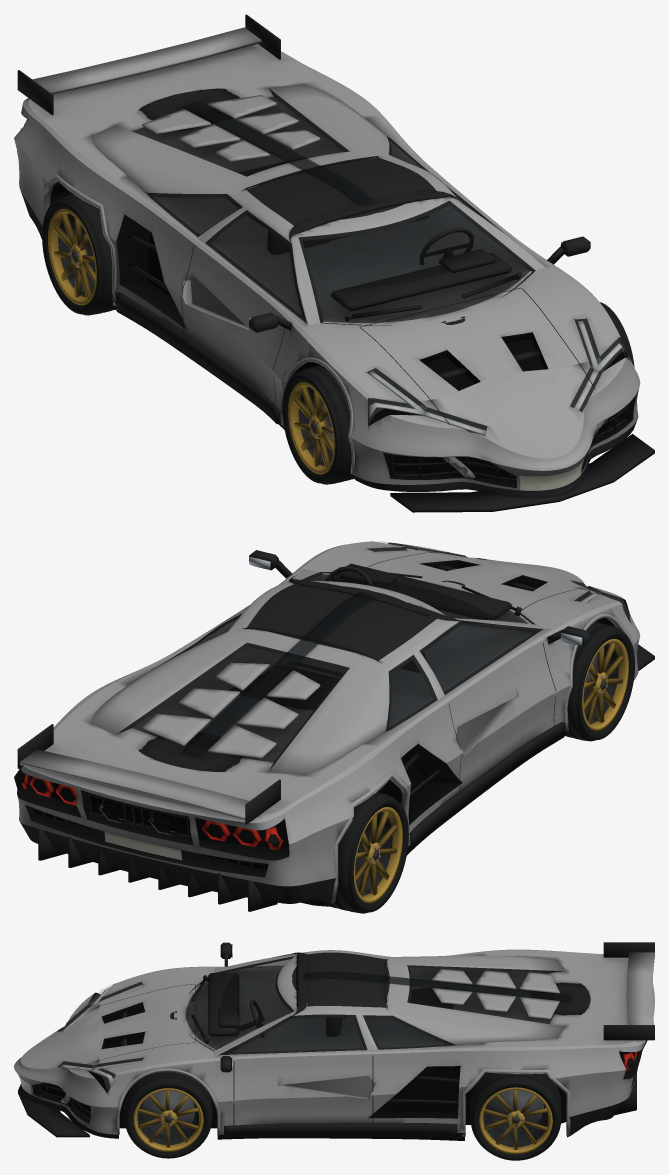
File: lamborghini-sian.glb
3 views of the same model, one above another, from view 1: azimuth 30°, elevation 25°; view 2: azimuth 150°, elevation 25°; view 3: azimuth 270°, elevation 25° (orthographic). The views are drawn at different scales.
Parts seen in each view (by area): view 1: Coachwork, Body, Wheel_RR, Wheel_FR, Headlights, Plate; view 2: Coachwork, Body, Wheel_RR, Wheel_FR, Taillights, Plate; view 3: Coachwork, Body, Wheel_RL, Wheel_FL, Headlights.
Boxes of the visible parts, box(x1,y1,x2,y2) form: Coachwork: box(14, 44, 640, 498); Body: box(17, 14, 654, 512); Wheel_RR: box(42, 194, 115, 315); Wheel_FR: box(282, 365, 354, 484); Headlights: box(369, 320, 625, 434); Plate: box(519, 460, 583, 490); Coachwork: box(14, 541, 640, 906); Body: box(17, 541, 654, 911); Wheel_RR: box(329, 792, 408, 913); Wheel_FR: box(565, 622, 634, 741); Taillights: box(22, 774, 283, 849); Plate: box(104, 831, 181, 860); Coachwork: box(14, 949, 654, 1140); Body: box(18, 942, 654, 1137); Wheel_RL: box(470, 1072, 561, 1160); Wheel_FL: box(124, 1071, 212, 1158); Headlights: box(60, 984, 143, 1086).
Size of the model in its own units: 2.25 by 1.13 by 4.98.
